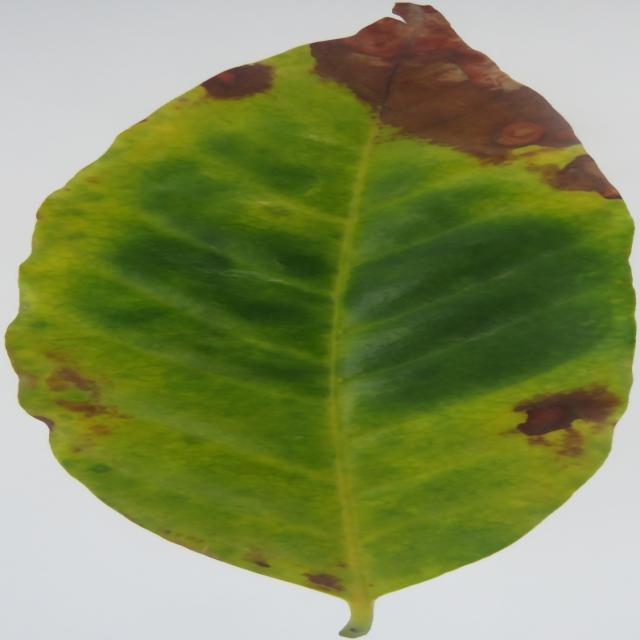DeficienciaNutricional-Potasio: (11, 3, 635, 636)
